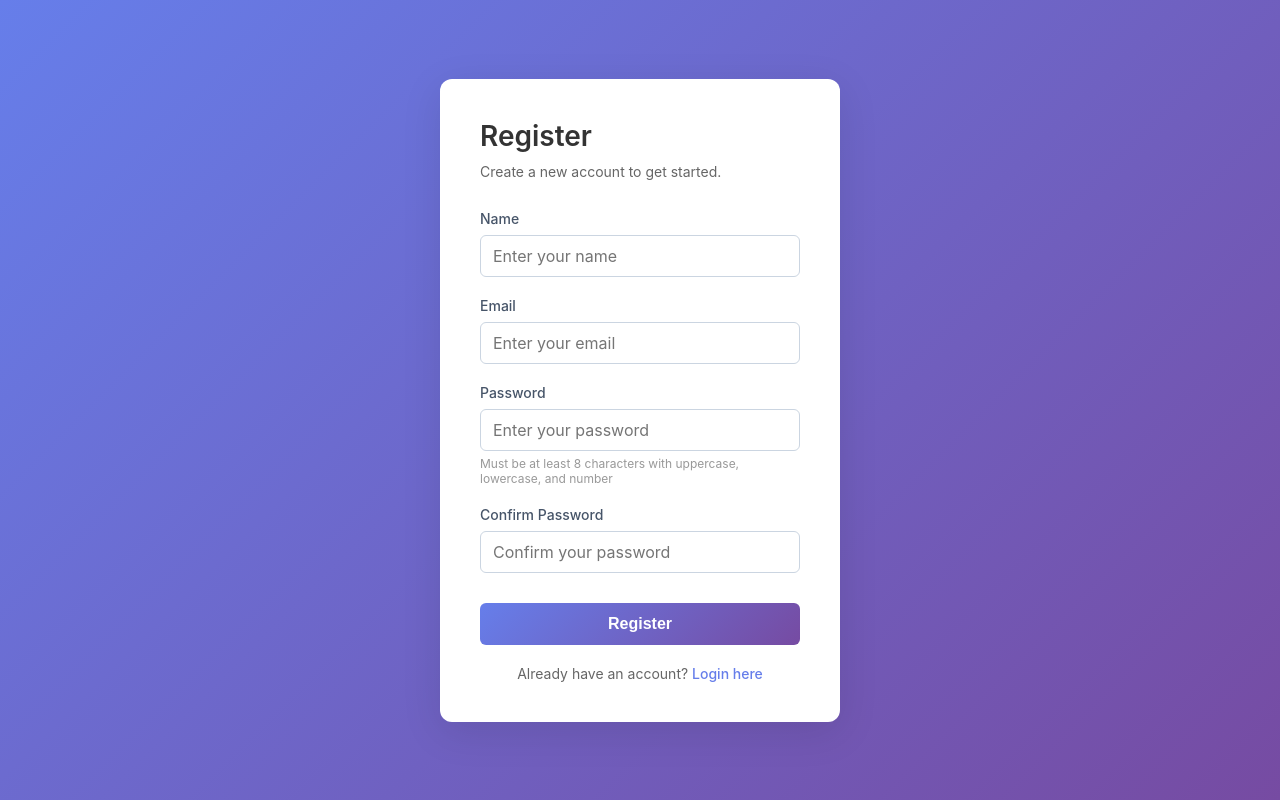
Test case: Register › shows error when passwords do not match
Type "Test User" into the field labelled "Name". click: {"x": 640, "y": 256}
box: [480,234,800,276]
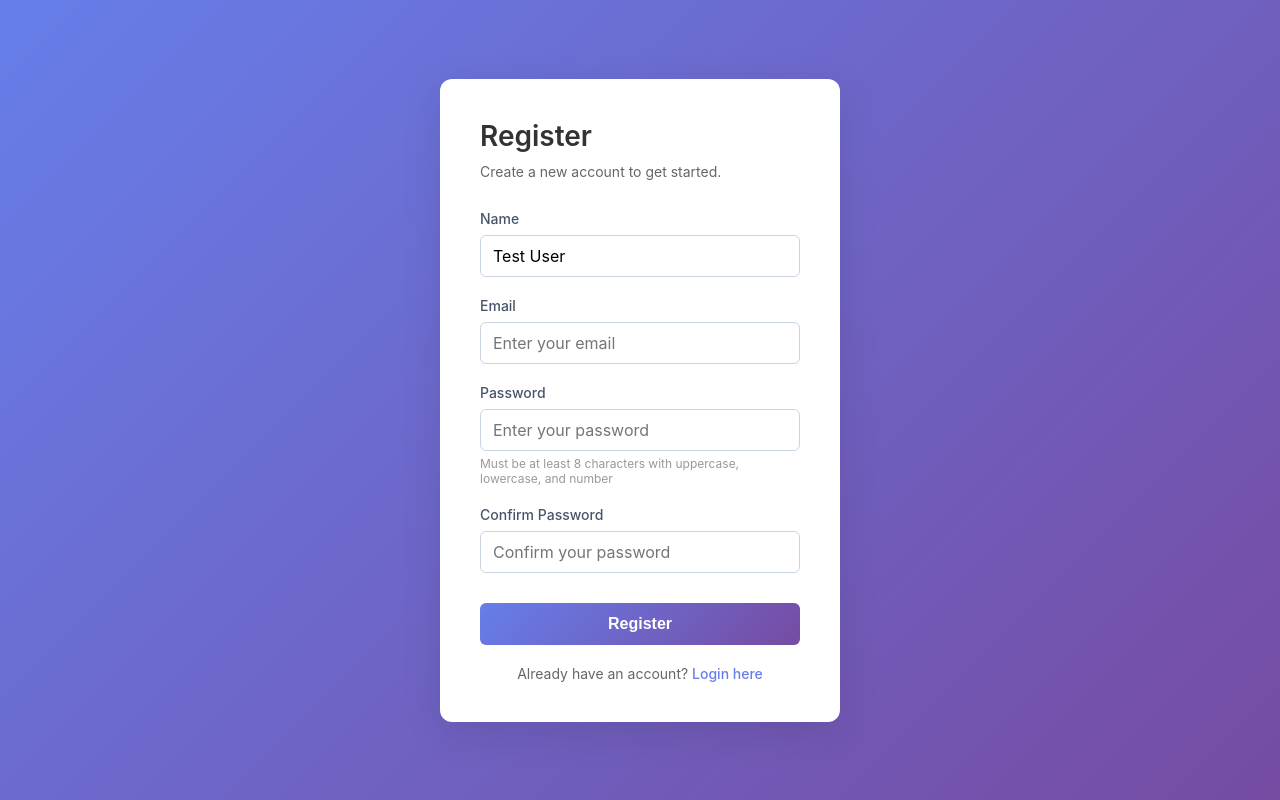
Type "test@example.com" into the field labelled "Email". click: {"x": 640, "y": 342}
box: [480,322,800,364]
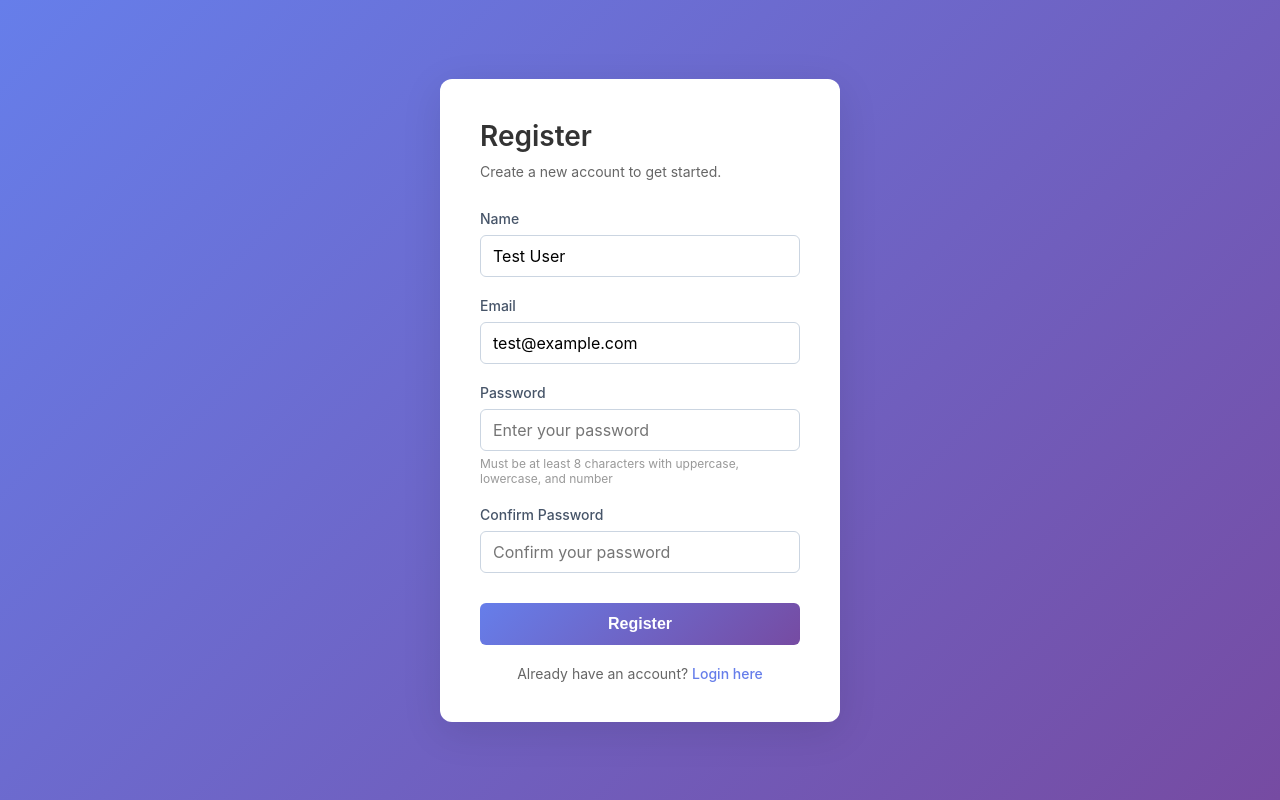
Type "Password123" into the password field labelled "Password". click: {"x": 640, "y": 430}
box: [480,408,800,450]
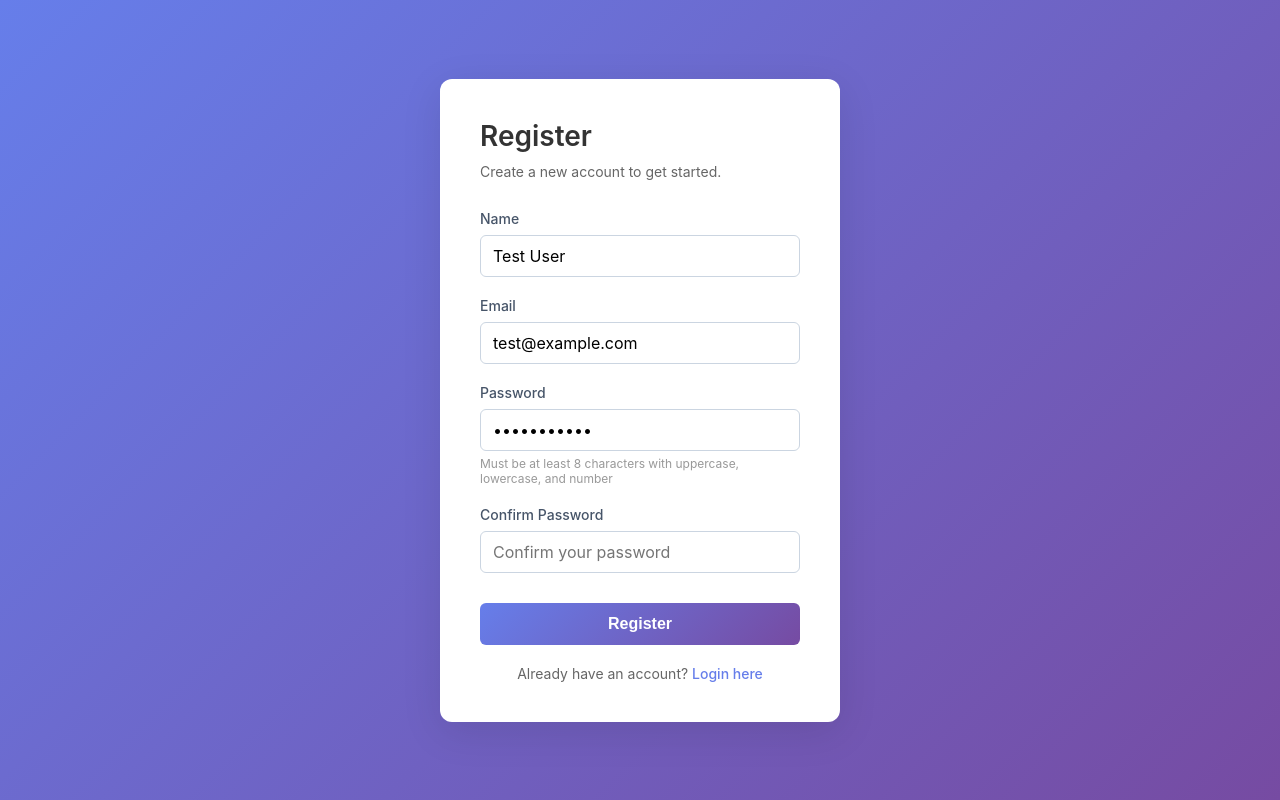
Type "Different123" into the password field labelled "Confirm Password". click: {"x": 640, "y": 552}
box: [480,530,800,572]
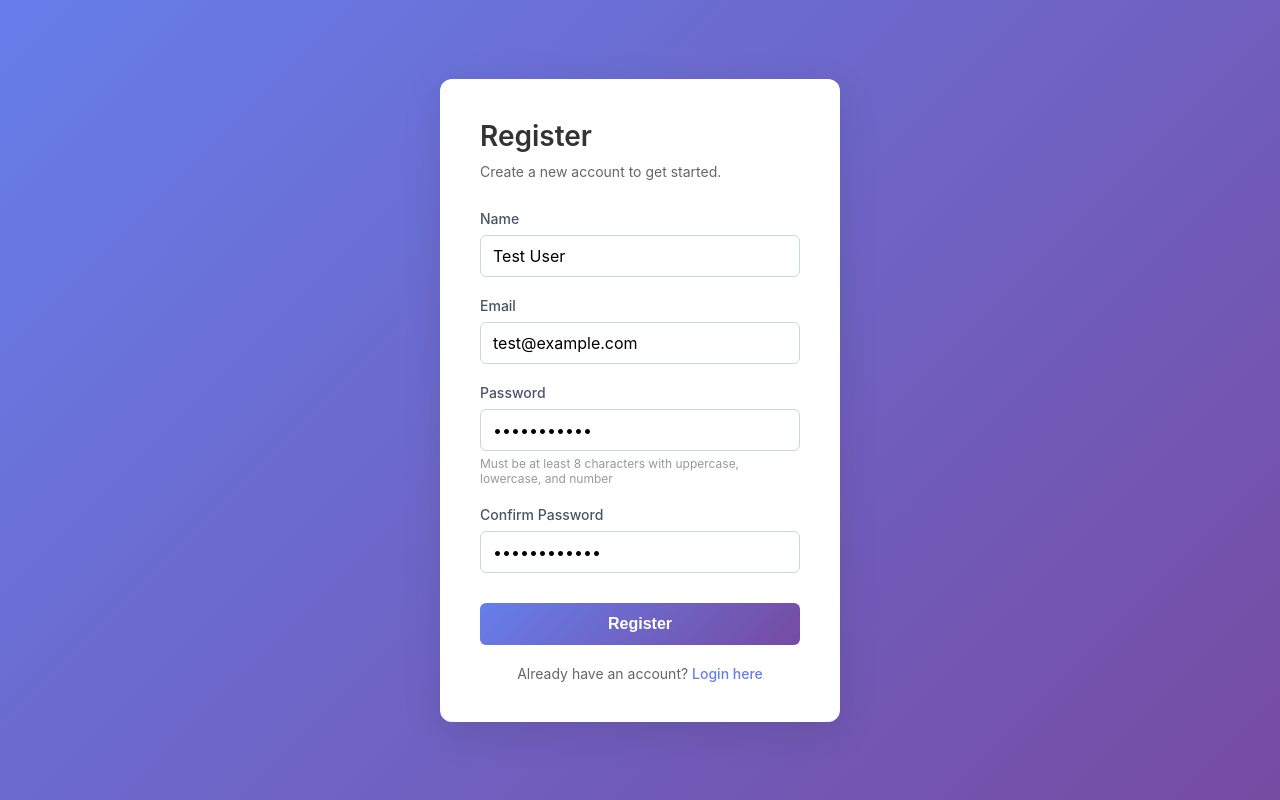
Click the button "Register". click: {"x": 640, "y": 624}
box: [480,602,800,644]
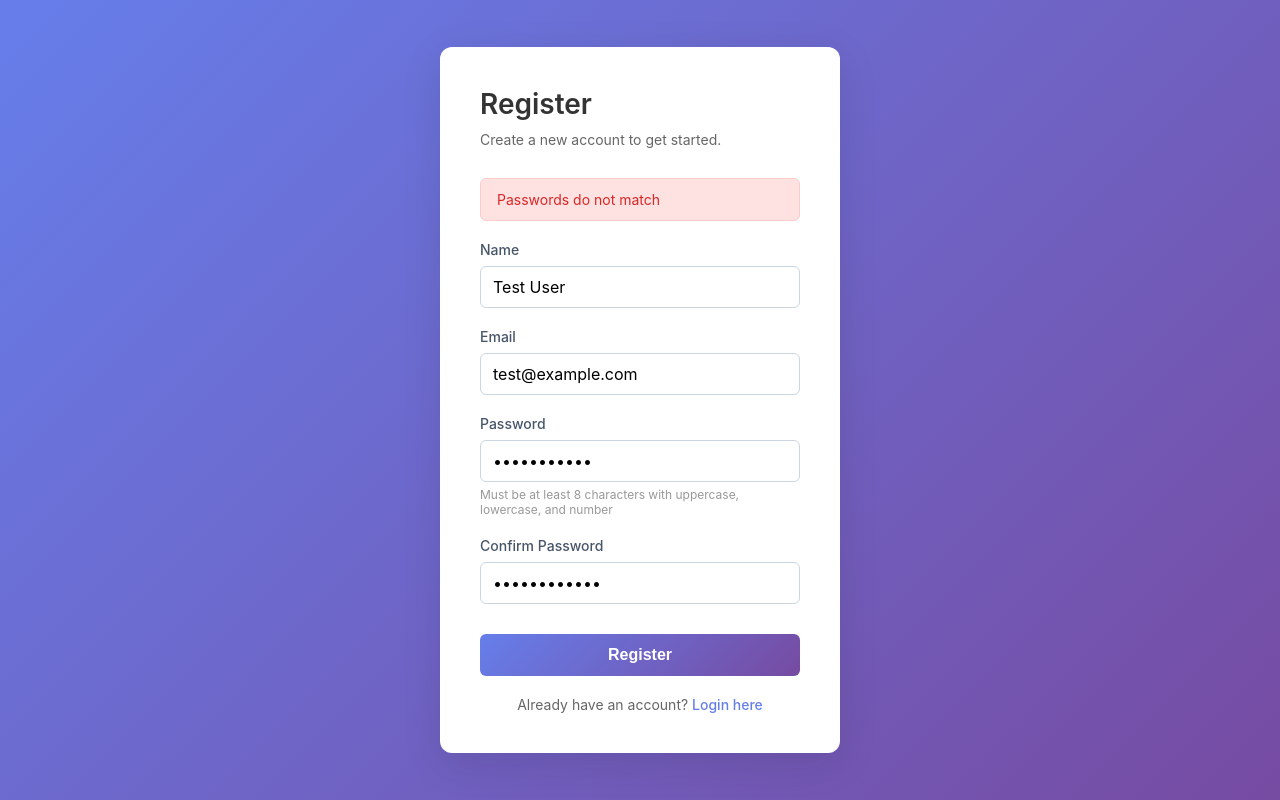
Expected: the text "Passwords do not match" is shown, [480,178,800,221]
